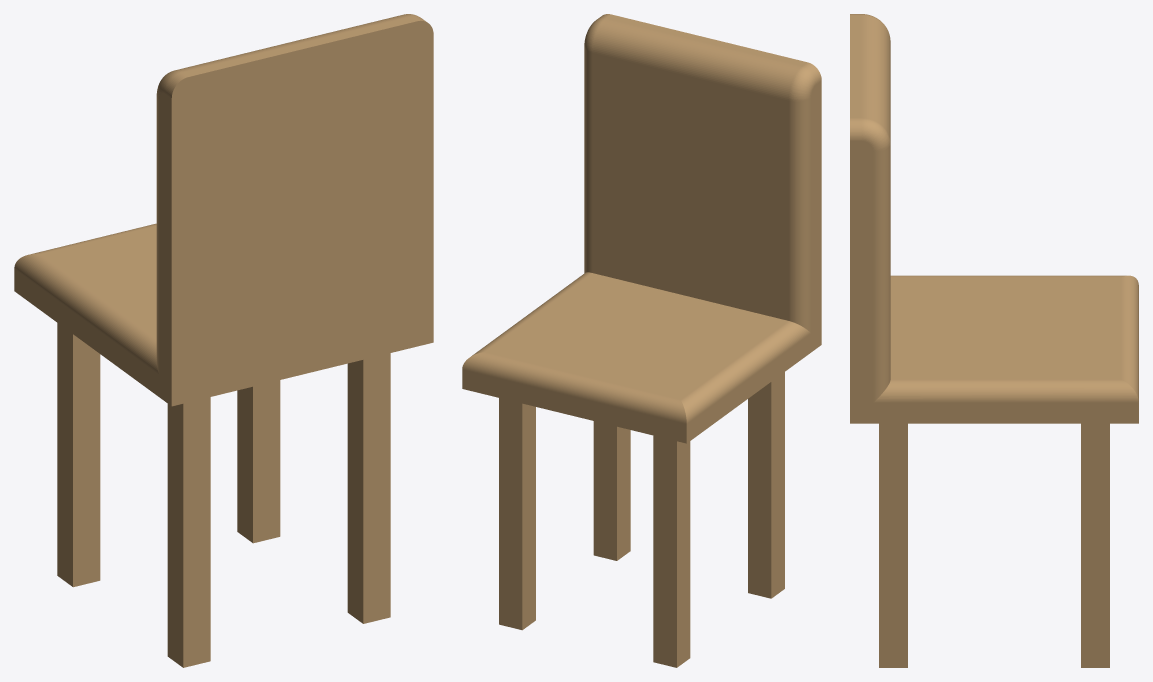
File: chair_simple.glb
The picture shows the model from 3 angles, left to right: view 1: azimuth 30°, elevation 25°; view 2: azimuth 150°, elevation 25°; view 3: azimuth 270°, elevation 25°; orthographic projection. The views are drawn at different scales.
Visible parts, largest first — view 1: SimpleChair; view 2: SimpleChair; view 3: SimpleChair.
Part boxes in pixels (bbox=[...]): SimpleChair: bbox=[14, 14, 433, 667]; SimpleChair: bbox=[462, 14, 821, 667]; SimpleChair: bbox=[850, 14, 1138, 667].
Size of the model in its own units: 0.48 by 1.06 by 0.5.
